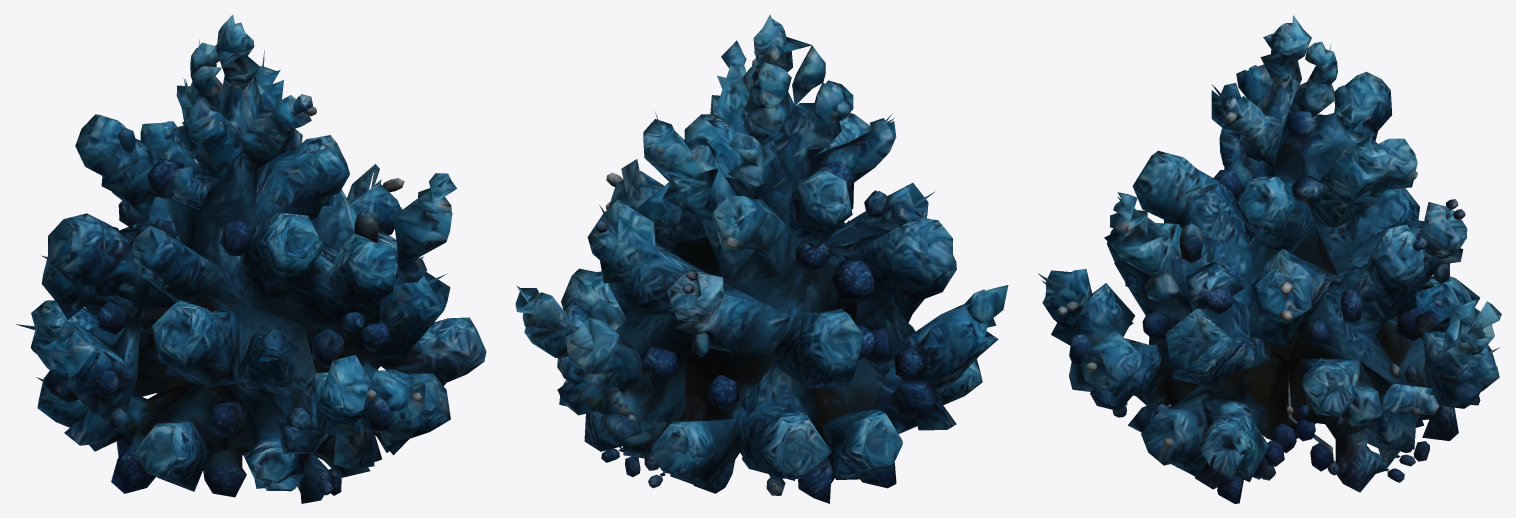
Rendered from juniper.glb.
3 views of the same model, side by side, from view 1: azimuth 30°, elevation 25°; view 2: azimuth 150°, elevation 25°; view 3: azimuth 270°, elevation 25° (orthographic). The views are drawn at different scales.
Visible parts, largest first — view 1: tripo_node_9cdbb98e-d2ab-40ce-a677-eba4395516e5; view 2: tripo_node_9cdbb98e-d2ab-40ce-a677-eba4395516e5; view 3: tripo_node_9cdbb98e-d2ab-40ce-a677-eba4395516e5.
Part boxes in pixels (x1=…): tripo_node_9cdbb98e-d2ab-40ce-a677-eba4395516e5: x1=16, y1=14, x2=486, y2=503; tripo_node_9cdbb98e-d2ab-40ce-a677-eba4395516e5: x1=515, y1=14, x2=1008, y2=503; tripo_node_9cdbb98e-d2ab-40ce-a677-eba4395516e5: x1=1038, y1=15, x2=1501, y2=503.
Size of the model in its own units: 0.9995 by 0.9995 by 0.9702.
1 material, 1 textured.
